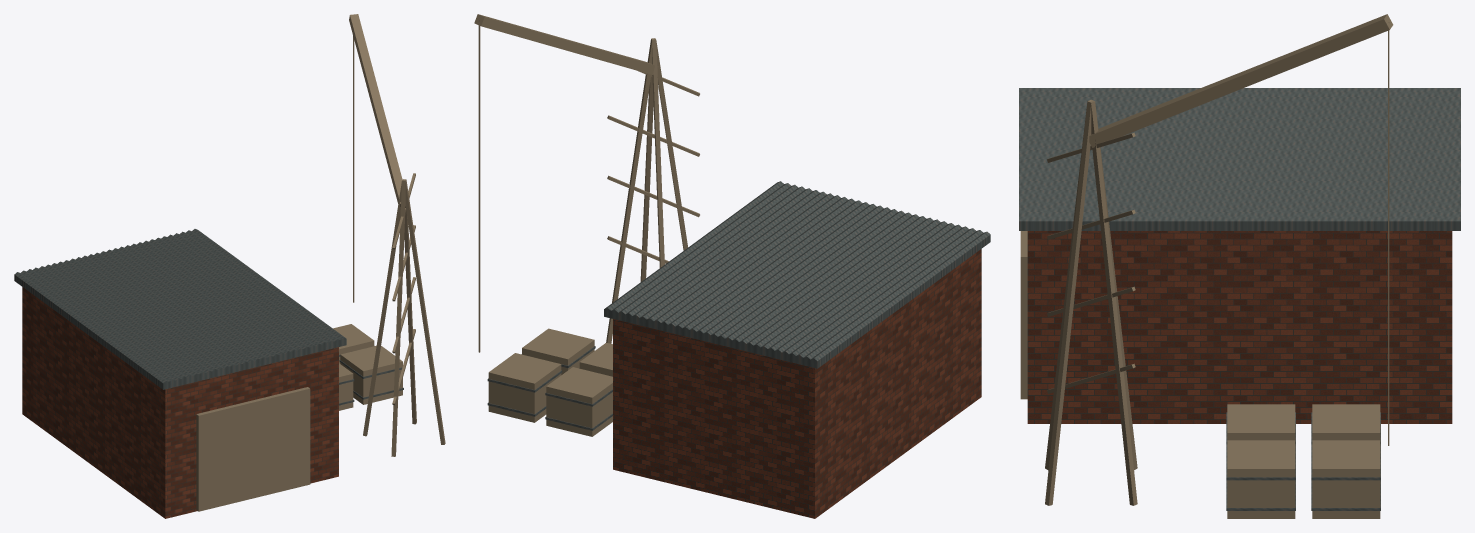
The model's file is docks.glb.
The picture shows the model from 3 angles, left to right: view 1: azimuth 30°, elevation 25°; view 2: azimuth 150°, elevation 25°; view 3: azimuth 270°, elevation 25°; orthographic projection. The views are drawn at different scales.
Visible parts, largest first — view 1: cargo shed, cargo corrugated roof, loading gate; view 2: cargo shed, cargo corrugated roof, loading gate; view 3: cargo shed, cargo corrugated roof, loading gate.
Boxes of the visible parts, box(x1,y1,x2,y2) form: cargo shed: box(22, 287, 338, 518); cargo corrugated roof: box(14, 229, 403, 405); loading gate: box(196, 14, 445, 511); cargo shed: box(613, 249, 981, 518); cargo corrugated roof: box(487, 181, 990, 430); loading gate: box(474, 14, 699, 436); cargo shed: box(1027, 231, 1452, 423); cargo corrugated roof: box(1019, 88, 1460, 510); loading gate: box(1020, 14, 1393, 518).
Bounding box in the file's own units: 12.86 × 13.14 × 10.4.
Materials: 3 (2 with a texture image).
